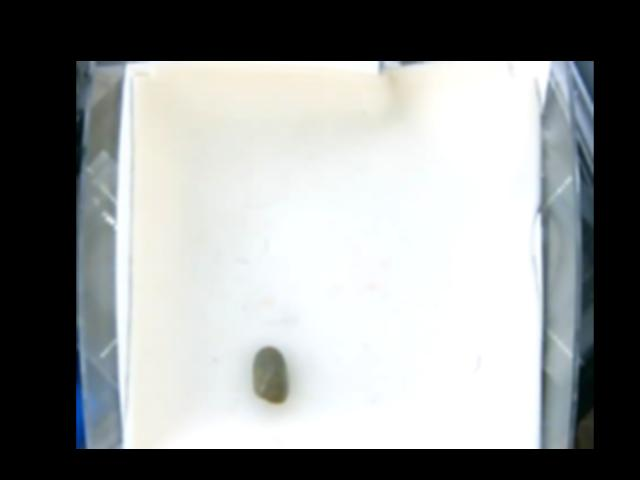Pebble: (254, 344, 288, 404)
